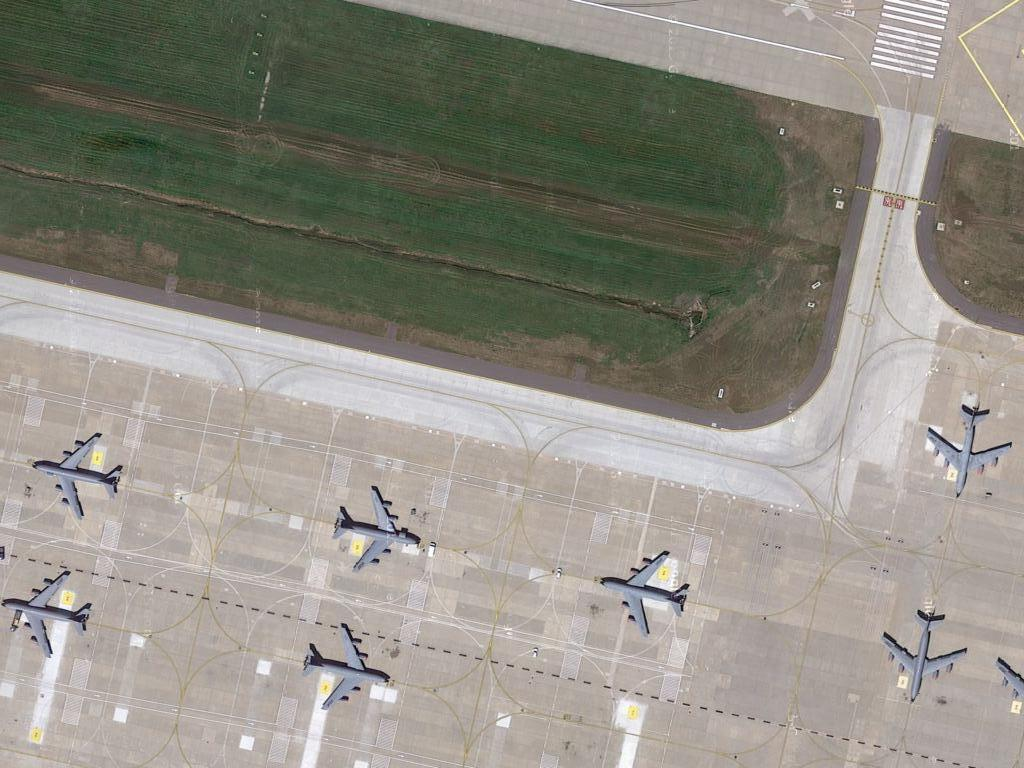KC-135: (879, 602, 978, 703), (27, 427, 132, 520), (594, 544, 693, 642), (924, 394, 1019, 496), (298, 623, 396, 717), (3, 565, 96, 660), (330, 485, 429, 574)
